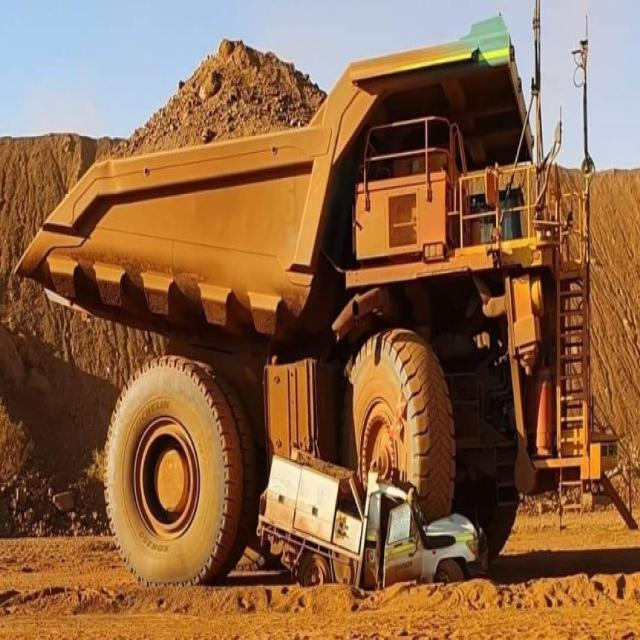dump_truck: (16, 22, 618, 580)
